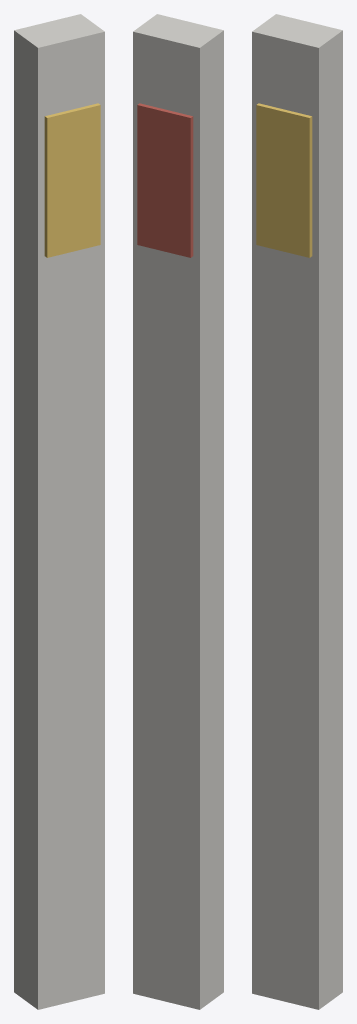
The model's file is delineator.glb.
3 views of the same model, side by side, from view 1: azimuth 30°, elevation 25°; view 2: azimuth 150°, elevation 25°; view 3: azimuth 330°, elevation 25° (orthographic).
Parts seen in each view (by area): view 1: NC_delineator; view 2: NC_delineator; view 3: NC_delineator.
Part boxes in pixels (bbox=[...]): NC_delineator: bbox=[14, 14, 104, 1009]; NC_delineator: bbox=[133, 14, 223, 1009]; NC_delineator: bbox=[252, 14, 342, 1009].
Bounding box in the file's own units: 0.08 × 1.1 × 0.06.
